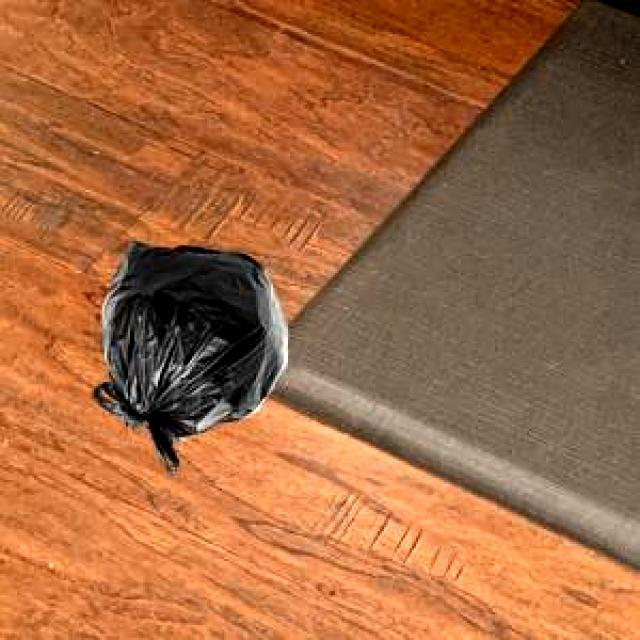Garbage_Bag: (88, 238, 285, 470)
